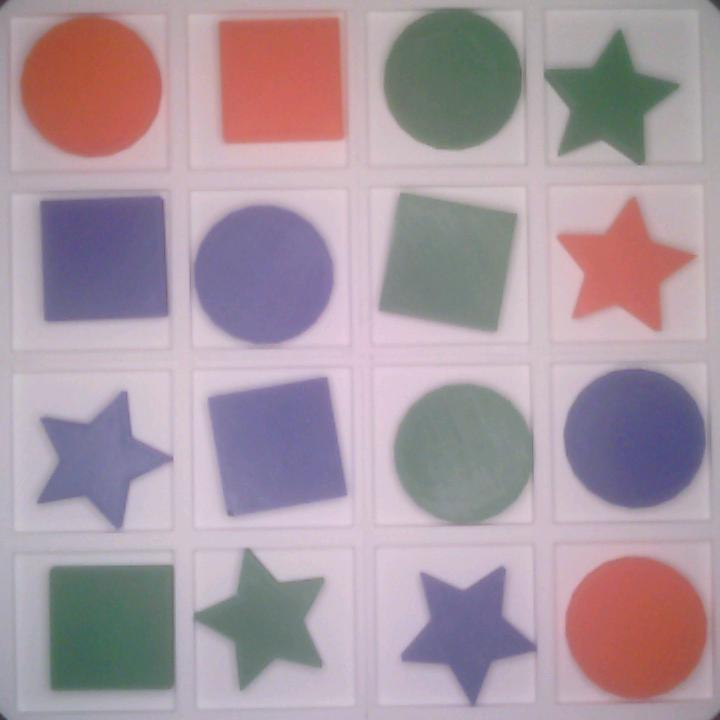Blue circle: (194, 203, 336, 346), (562, 369, 704, 510)
Blue square: (207, 379, 348, 517), (34, 196, 172, 324)
Blue star: (400, 565, 537, 704), (38, 389, 171, 529)
Green circle: (383, 11, 520, 150), (393, 384, 528, 523)
Green square: (377, 191, 519, 334), (46, 562, 177, 695)
Green star: (192, 544, 326, 690), (540, 27, 681, 162)
Orange circle: (563, 551, 709, 704), (19, 15, 163, 159)
Orange square: (216, 14, 345, 144)
Orange star: (555, 196, 693, 328)
